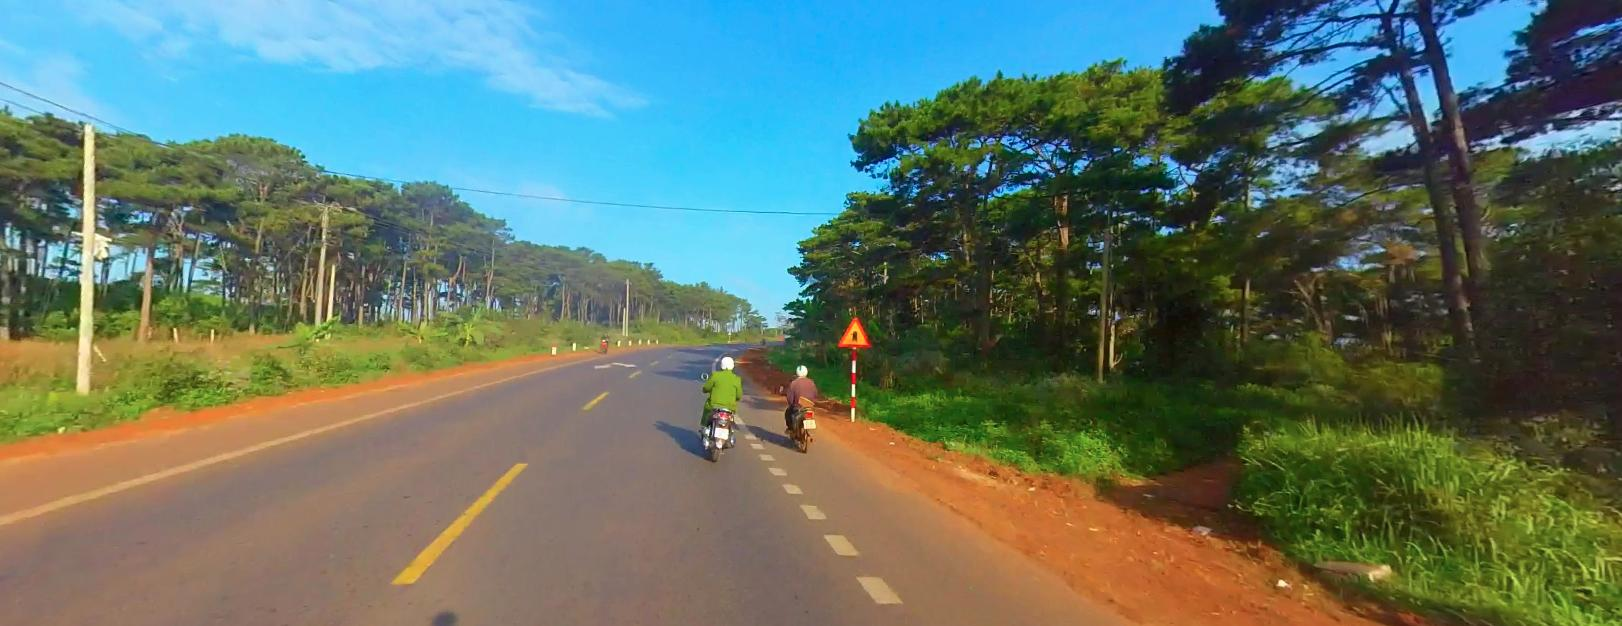Nguy hiem: (838, 315, 870, 345)
